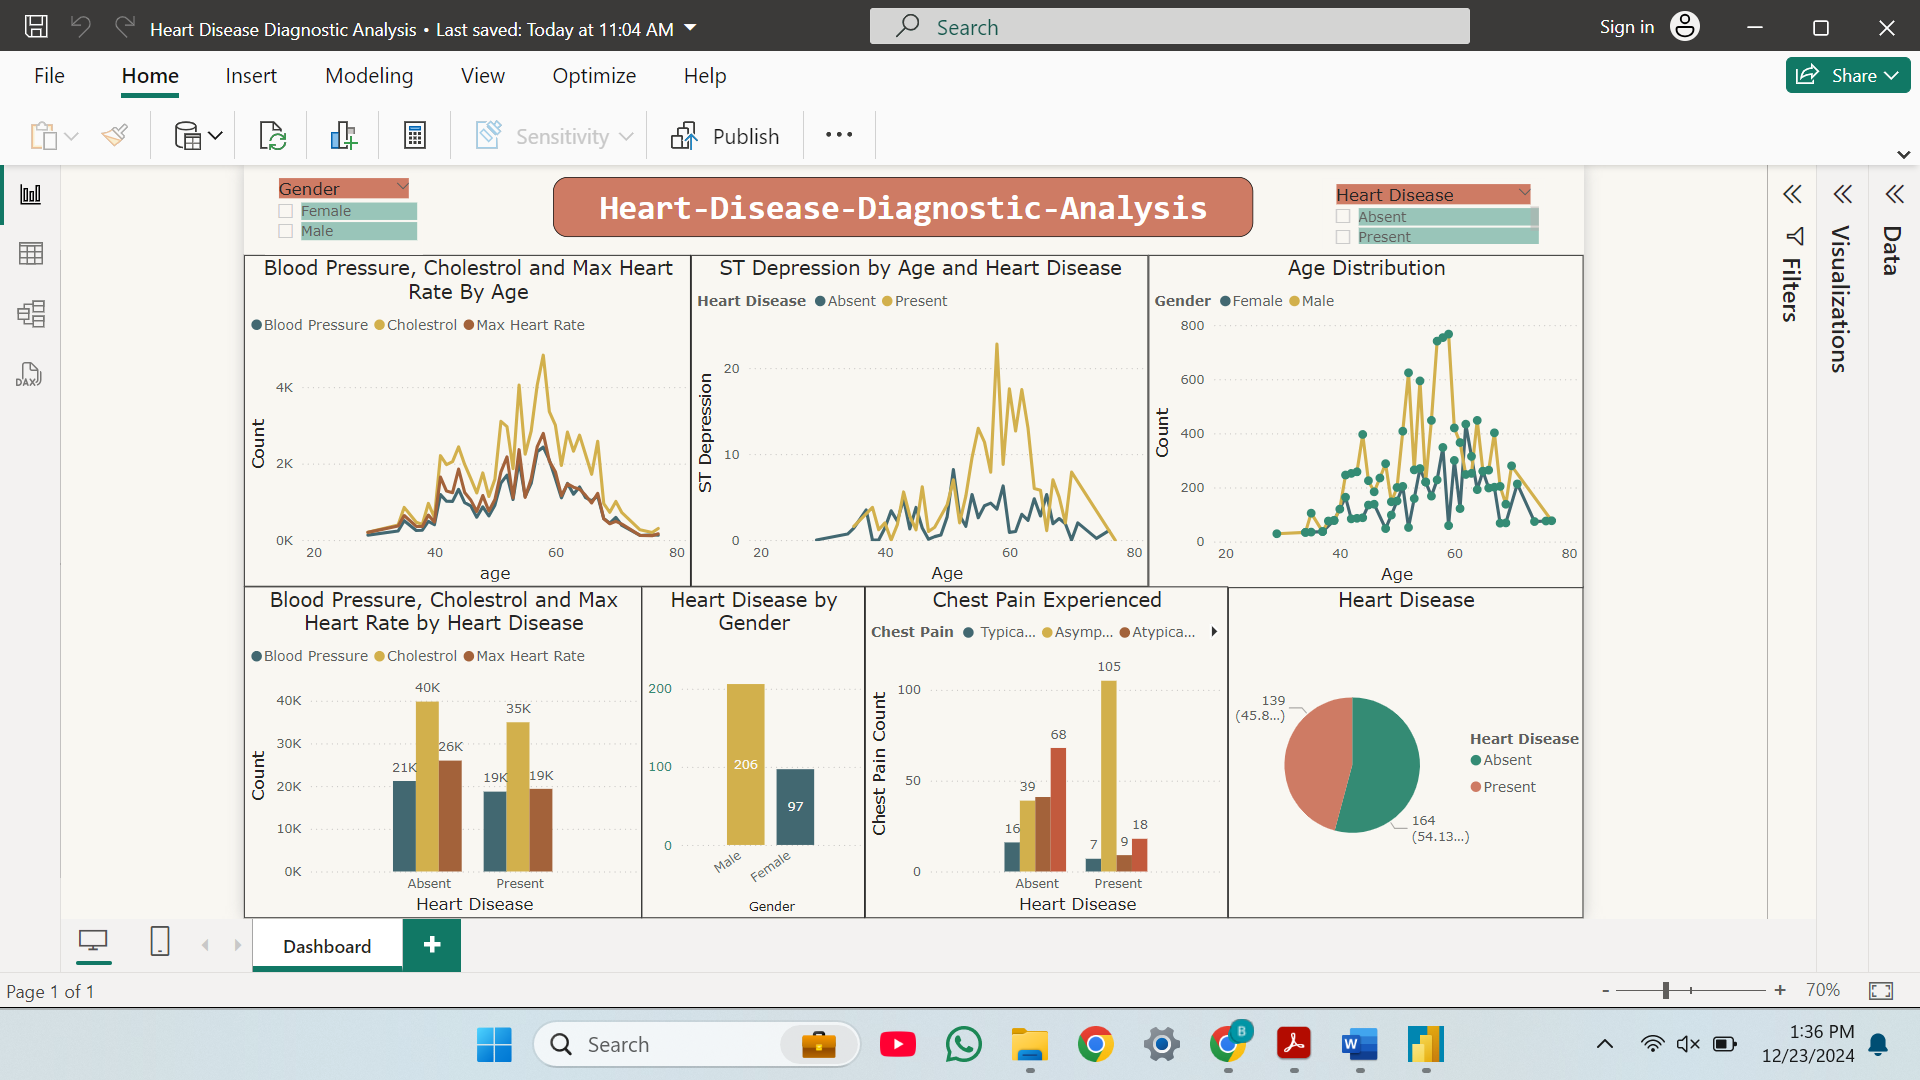

The page's visual inventory and layout, read from the dashboard file:
{"tool":"powerbi","page":{"name":"Dashboard","canvas":[1280,720],"ordinal":0},"visuals":[{"type":"columnChart","title":"Heart Disease by Gender","fields":{"Category":["heart_disease_dataset.Gender"],"Y":["CountNonNull(heart_disease_dataset.Heart Disease)"],"Series":["heart_disease_dataset.Gender"]},"box":[380.1,402.8,213.5,316.5],"z":0},{"type":"pieChart","title":"Heart Disease","fields":{"Y":["CountNonNull(heart_disease_dataset.Heart Disease)"],"Category":["heart_disease_dataset.Heart Disease"]},"box":[940.3,402.8,339.2,316.5],"z":1000},{"type":"lineChart","title":"Age Distribution","fields":{"Category":["heart_disease_dataset.age"],"Y":["Sum(heart_disease_dataset.age)"],"Series":["heart_disease_dataset.Gender"]},"box":[863.7,85.9,415.4,318],"z":2000},{"type":"clusteredColumnChart","title":"Chest Pain Experienced","fields":{"Category":["heart_disease_dataset.Heart Disease"],"Y":["CountNonNull(heart_disease_dataset.chest pain)"],"Series":["heart_disease_dataset.chest pain"]},"box":[593.6,402.8,346.8,316.5],"z":3000},{"type":"lineChart","title":"Blood Pressure, Cholestrol and Max Heart Rate By Age","fields":{"Y":["Sum(heart_disease_dataset.Blood Pressure)","Sum(heart_disease_dataset.chol)","Sum(heart_disease_dataset.thalach)"],"Category":["heart_disease_dataset.age"]},"box":[0,85.9,426.9,316.6],"z":4000},{"type":"clusteredColumnChart","title":"Blood Pressure, Cholestrol and Max Heart Rate by Heart Disease","fields":{"Category":["heart_disease_dataset.Heart Disease"],"Y":["Sum(heart_disease_dataset.trestbps)","Sum(heart_disease_dataset.chol)","Sum(heart_disease_dataset.thalach)"]},"box":[0,402.8,380.1,316.5],"z":5000},{"type":"lineChart","title":"ST Depression by Age and Heart Disease","fields":{"Category":["heart_disease_dataset.age"],"Series":["heart_disease_dataset.Heart Disease"],"Y":["Sum(heart_disease_dataset.oldpeak)"]},"box":[426.9,85.9,436.9,316.6],"z":6000},{"type":"slicer","fields":{"Values":["heart_disease_dataset.Gender"]},"box":[20.1,7.2,150.4,78.8],"z":7000},{"type":"slicer","fields":{"Values":["heart_disease_dataset.Heart Disease"]},"box":[1029.9,12.9,212,67.3],"z":8000},{"type":"textbox","box":[294.9,10.7,668.7,57.3],"z":9000}]}

Visuals, with their boxes on the page's 1280x720 design canvas (x1, y1, x2, y2). These are canvas units, not pixel positions in the 1920x1080 screenshot, which may show the page scaled, cropped or inside an application window:
"Heart Disease by Gender" columnChart: {"left": 380, "top": 403, "right": 594, "bottom": 719}
"Heart Disease" pieChart: {"left": 940, "top": 403, "right": 1280, "bottom": 719}
"Age Distribution" lineChart: {"left": 864, "top": 86, "right": 1279, "bottom": 404}
"Chest Pain Experienced" clusteredColumnChart: {"left": 594, "top": 403, "right": 940, "bottom": 719}
"Blood Pressure, Cholestrol and Max Heart Rate By Age" lineChart: {"left": 0, "top": 86, "right": 427, "bottom": 402}
"Blood Pressure, Cholestrol and Max Heart Rate by Heart Disease" clusteredColumnChart: {"left": 0, "top": 403, "right": 380, "bottom": 719}
"ST Depression by Age and Heart Disease" lineChart: {"left": 427, "top": 86, "right": 864, "bottom": 402}
slicer - heart_disease_dataset.Gender: {"left": 20, "top": 7, "right": 170, "bottom": 86}
slicer - heart_disease_dataset.Heart Disease: {"left": 1030, "top": 13, "right": 1242, "bottom": 80}
textbox: {"left": 295, "top": 11, "right": 964, "bottom": 68}
